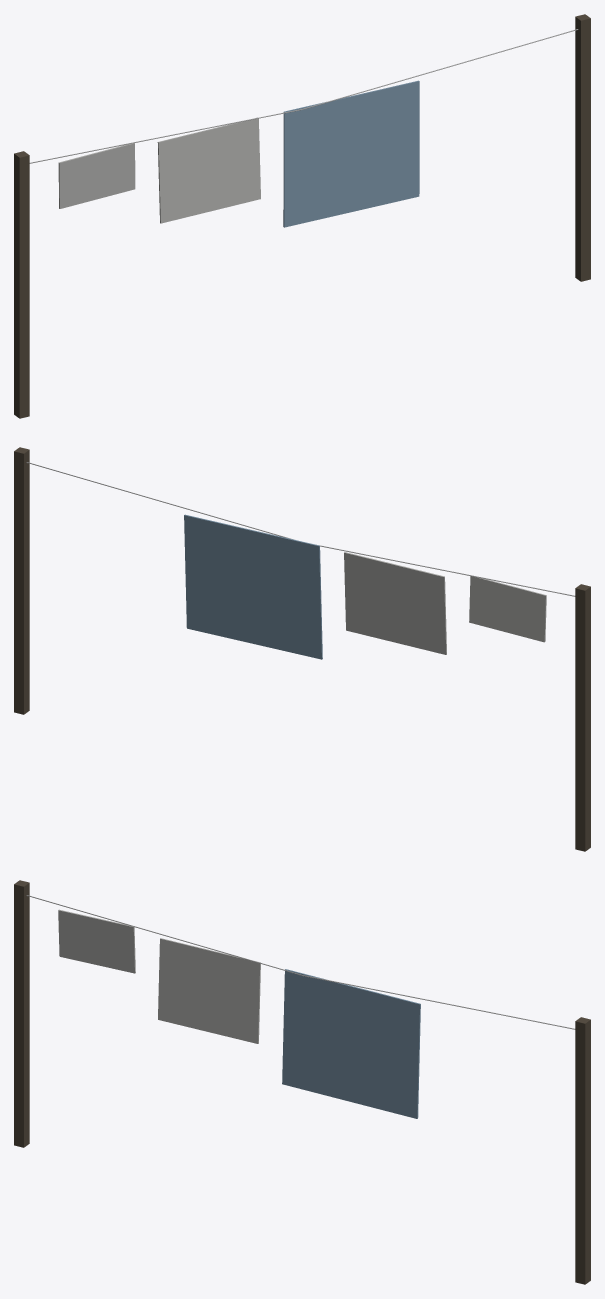
The model's file is SM_WashingLine_0_Wood.glb.
3 views of the same model, one above another, from view 1: azimuth 30°, elevation 25°; view 2: azimuth 150°, elevation 25°; view 3: azimuth 330°, elevation 25° (orthographic).
Parts seen in each view (by area): view 1: SM_WashingLine_0_Wood; view 2: SM_WashingLine_0_Wood; view 3: SM_WashingLine_0_Wood.
Boxes of the visible parts, bbox=[...] form: SM_WashingLine_0_Wood: bbox=[14, 14, 590, 418]; SM_WashingLine_0_Wood: bbox=[14, 447, 590, 851]; SM_WashingLine_0_Wood: bbox=[14, 880, 590, 1284].
Bounding box in the file's own units: 4.58 × 2 × 0.08.
